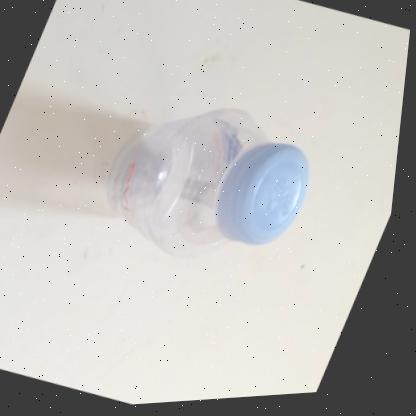Plastic: (110, 111, 312, 258)
